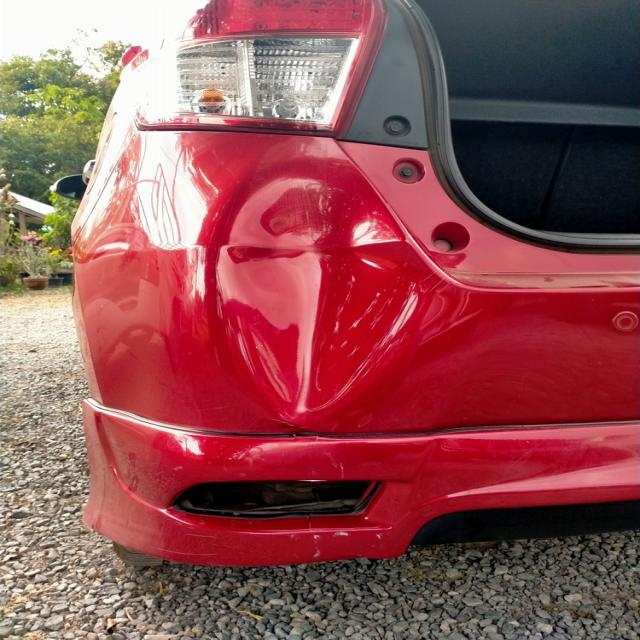dent: (206, 157, 440, 414)
